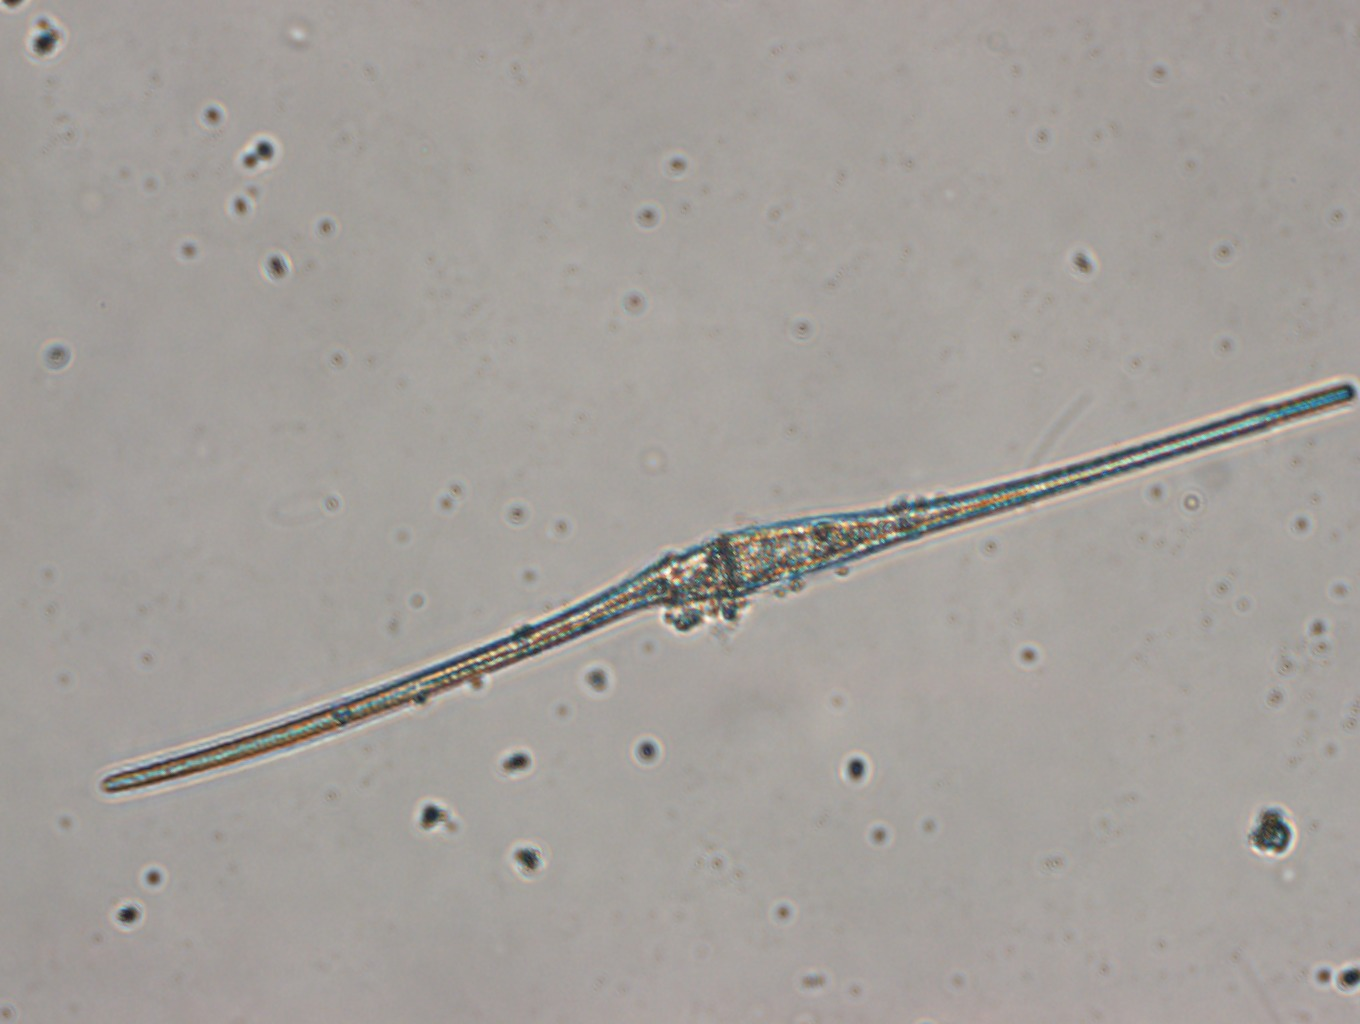ceratium fusus: (96, 375, 1360, 803)
